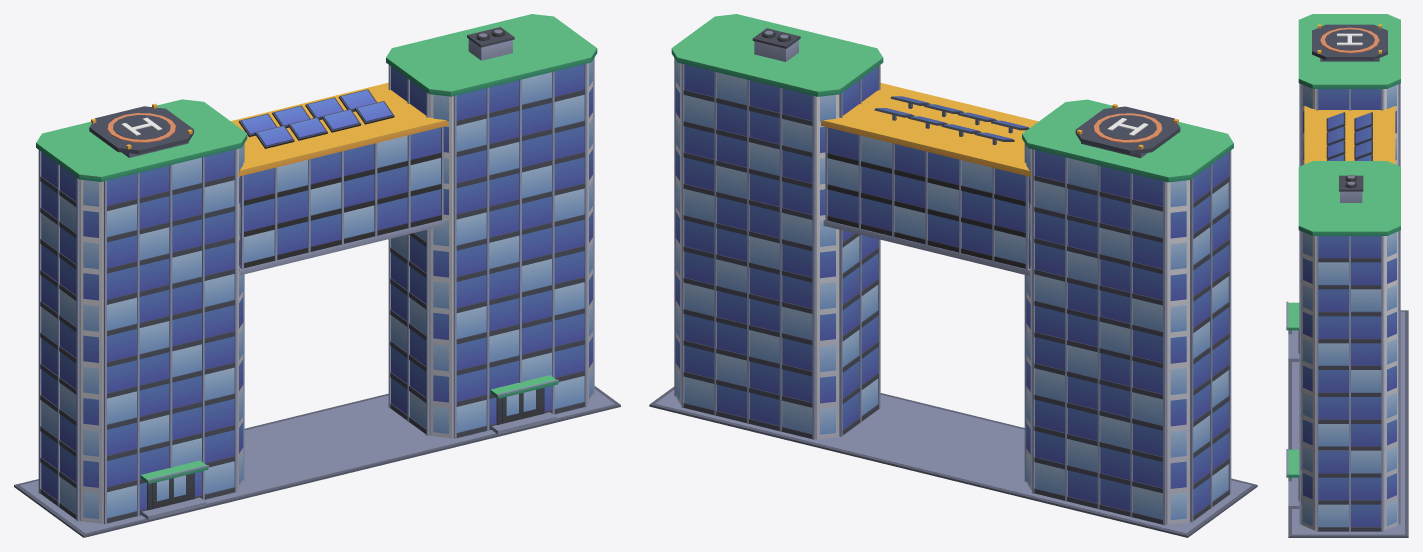
File: off_skybridge_gate_4x1.glb
The picture shows the model from 3 angles, left to right: view 1: azimuth 30°, elevation 25°; view 2: azimuth 150°, elevation 25°; view 3: azimuth 270°, elevation 25°; orthographic projection. The views are drawn at different scales.
Visible parts, largest first — view 1: off_skybridge_gate_4x1; view 2: off_skybridge_gate_4x1; view 3: off_skybridge_gate_4x1.
Part boxes in pixels (x1,y1,x2,y2): off_skybridge_gate_4x1: (14, 14, 620, 537); off_skybridge_gate_4x1: (649, 14, 1257, 537); off_skybridge_gate_4x1: (1286, 14, 1408, 537).
Bounding box in the file's own units: 7.74 × 5.09 × 1.77.
Materials: 1 (1 with a texture image).
